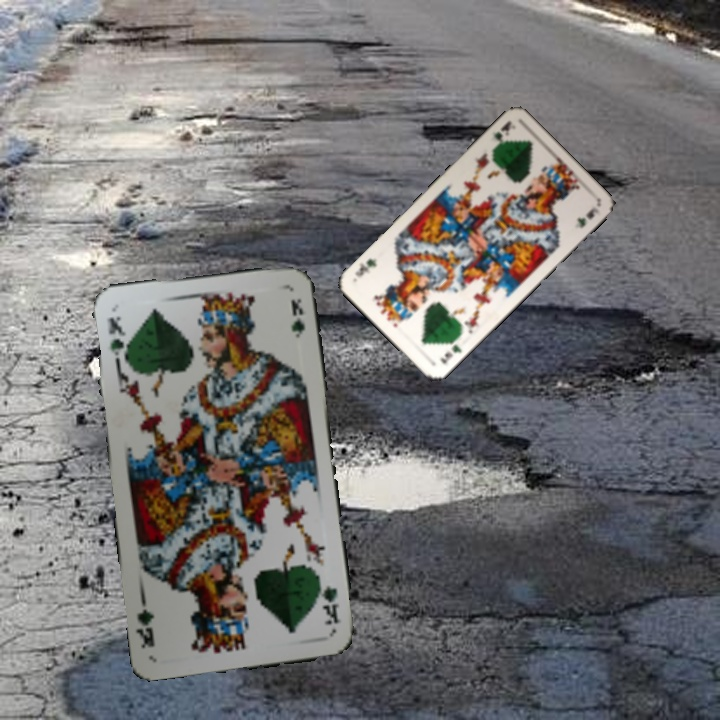GK: (315, 575, 342, 628), (104, 312, 126, 366), (488, 117, 514, 154), (436, 340, 465, 366)
